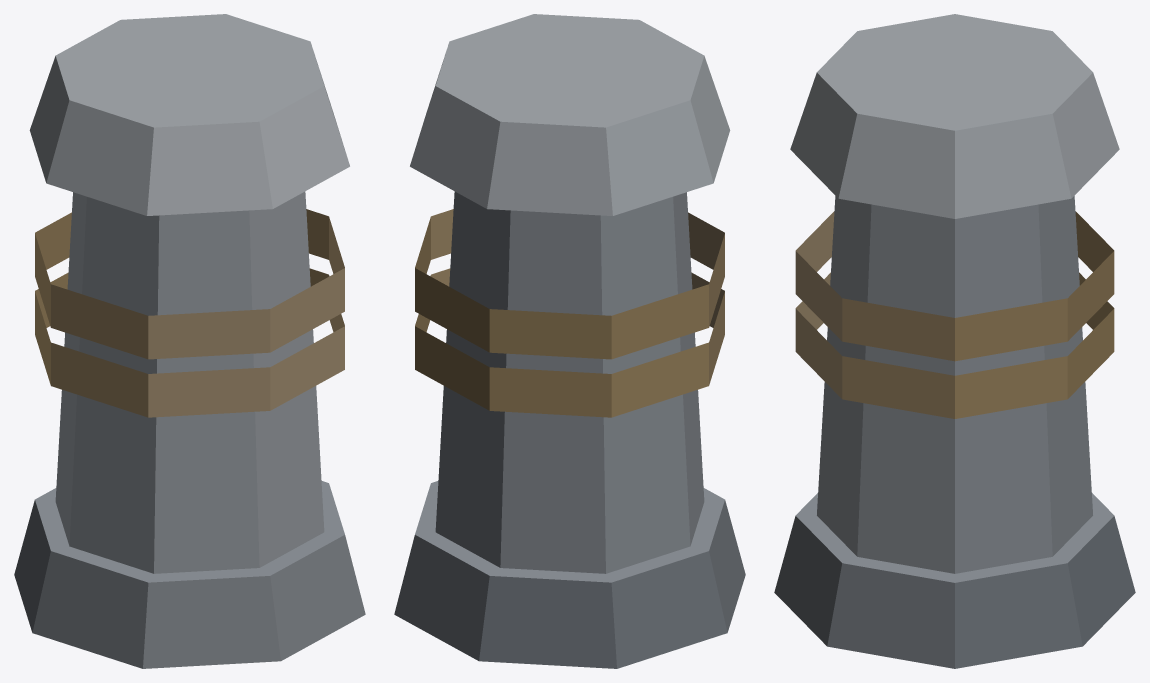
File: mooring_post_stone.glb
The picture shows the model from 3 angles, left to right: view 1: azimuth 30°, elevation 25°; view 2: azimuth 150°, elevation 25°; view 3: azimuth 270°, elevation 25°; orthographic projection.
Visible parts, largest first — view 1: mooring_post_stone; view 2: mooring_post_stone; view 3: mooring_post_stone.
Boxes of the visible parts, x1,y1,x2,y2 form: mooring_post_stone: (14,14,365,668); mooring_post_stone: (394,14,745,668); mooring_post_stone: (774,14,1135,668).
Bounding box in the file's own units: 0.68 × 1.08 × 0.68.
